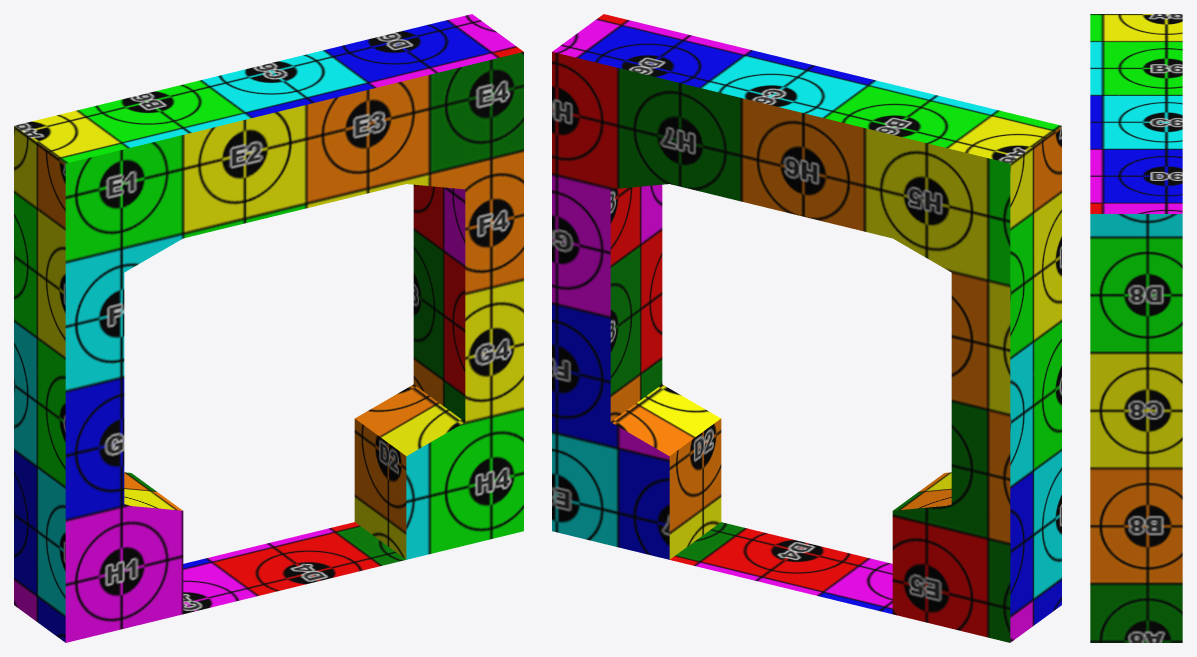
Rendered from Door_S_RP_FrameBox.fbx.
3 renders of one model, left to right at view 1: azimuth 30°, elevation 25°; view 2: azimuth 150°, elevation 25°; view 3: azimuth 270°, elevation 25°, orthographic. The views are drawn at different scales.
Visible parts, largest first — view 1: Door_Rp_Small2; view 2: Door_Rp_Small2; view 3: Door_Rp_Small2.
Part boxes in pixels (x1=…): Door_Rp_Small2: x1=14, y1=14, x2=523, y2=642; Door_Rp_Small2: x1=552, y1=14, x2=1061, y2=642; Door_Rp_Small2: x1=1090, y1=14, x2=1182, y2=642.
Bounding box in the file's own units: 2.56 × 2.56 × 0.5.
Materials: 1 (1 with a texture image).
